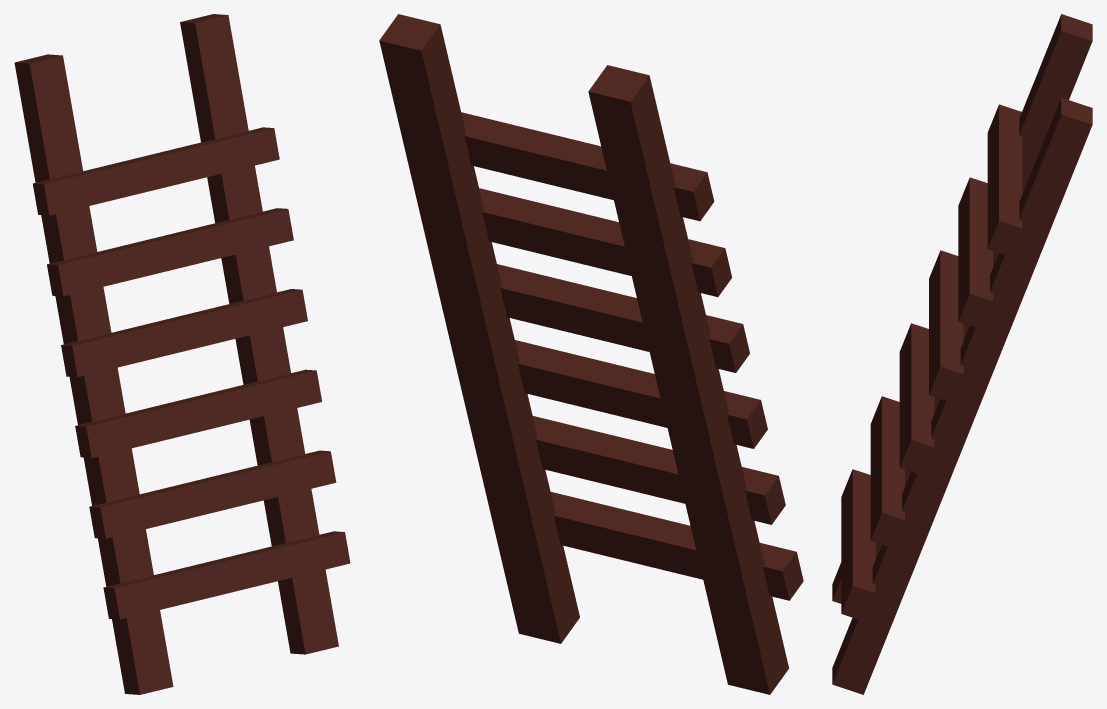
Rendered from ladder_1.FBX.
3 views of the same model, side by side, from view 1: azimuth 30°, elevation 25°; view 2: azimuth 150°, elevation 25°; view 3: azimuth 270°, elevation 25° (orthographic). The views are drawn at different scales.
Parts seen in each view (by area): view 1: ladder_1; view 2: ladder_1; view 3: ladder_1.
Boxes of the visible parts, bbox=[...] form: ladder_1: bbox=[14, 14, 350, 694]; ladder_1: bbox=[379, 14, 803, 694]; ladder_1: bbox=[832, 14, 1092, 694].
Bounding box in the file's own units: 1.3 × 3.02 × 1.23.
Materials: 1 (1 with a texture image).
